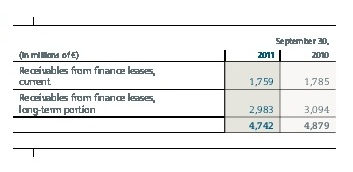table: (0, 0, 353, 172)
